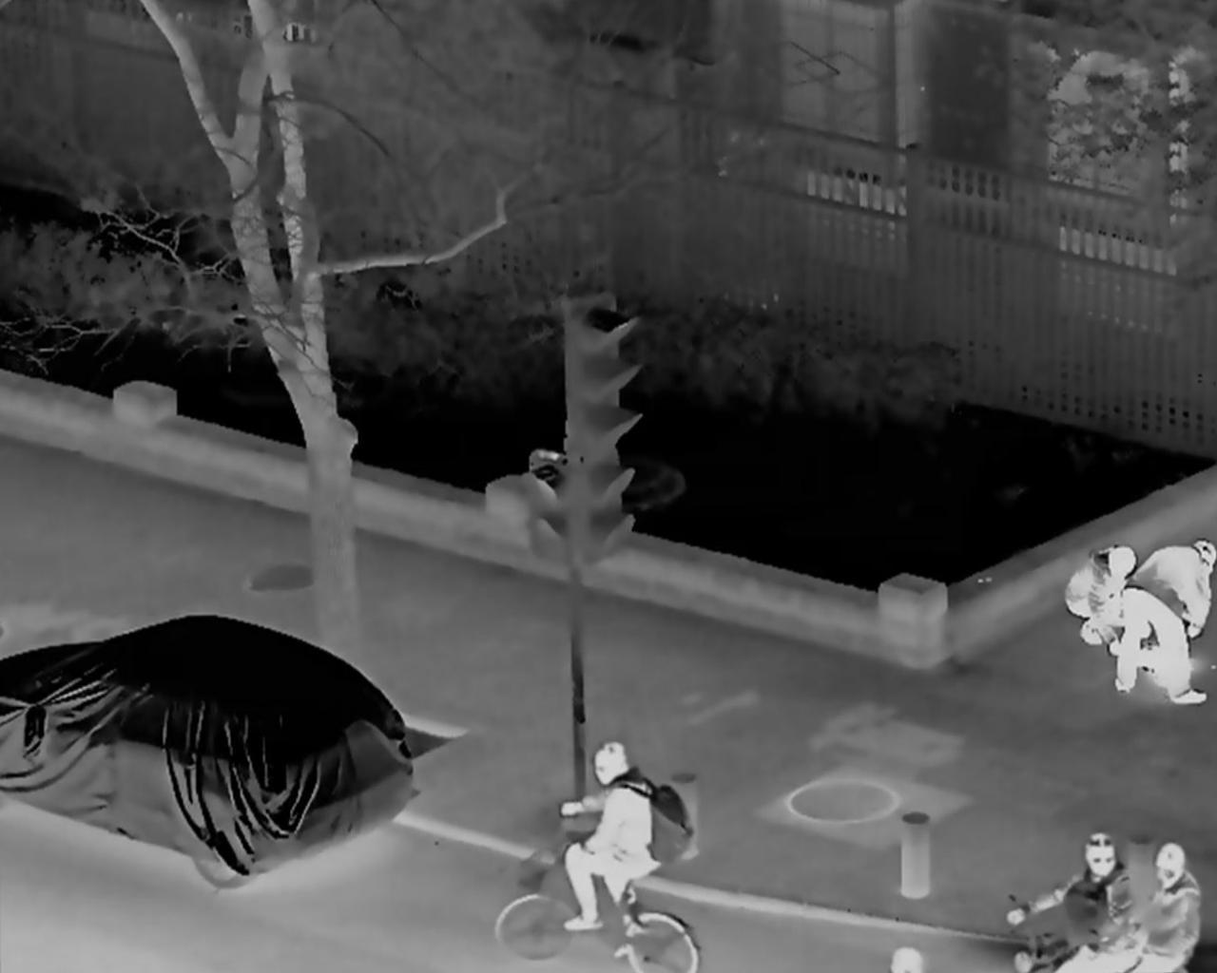person: (1002, 836, 1138, 973), (563, 747, 665, 928), (1116, 538, 1217, 700), (1116, 845, 1199, 972), (1060, 544, 1139, 650)
